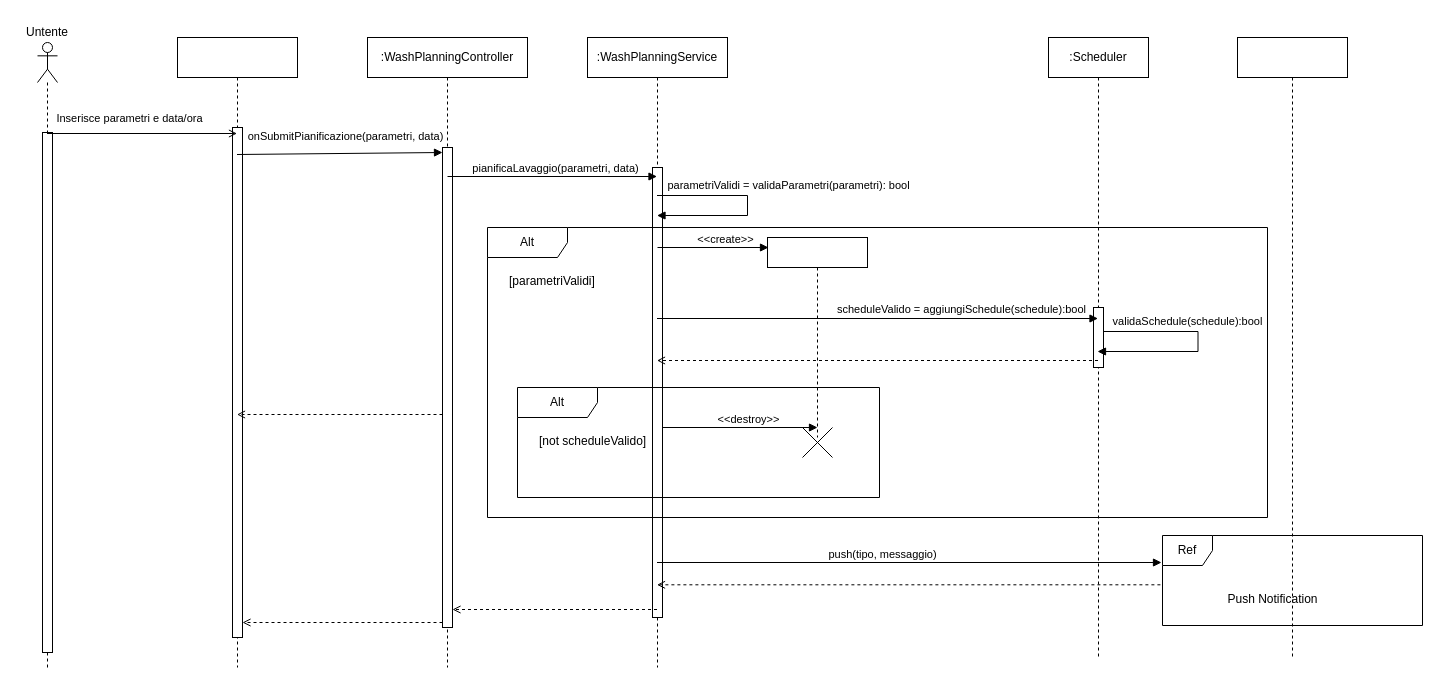
Some shapes in this 1440 by 685 pixel diagram are drawn without their labels. The box of each missing label's shape, as (x1, y1, x2, y2) in pixels:
:NotificationService: (1236, 36, 1348, 658)
:Schedule: (766, 236, 868, 438)
:WashPlanningForm: (176, 36, 298, 668)
